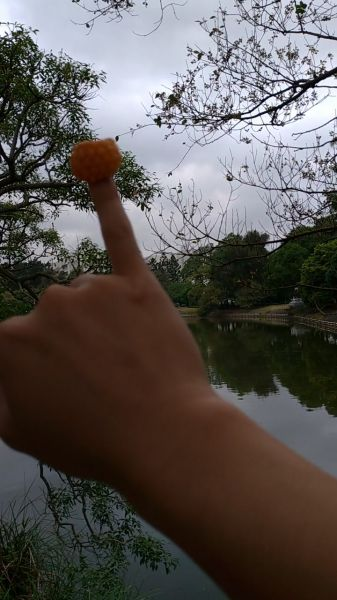eggs: (67, 139, 119, 180)
